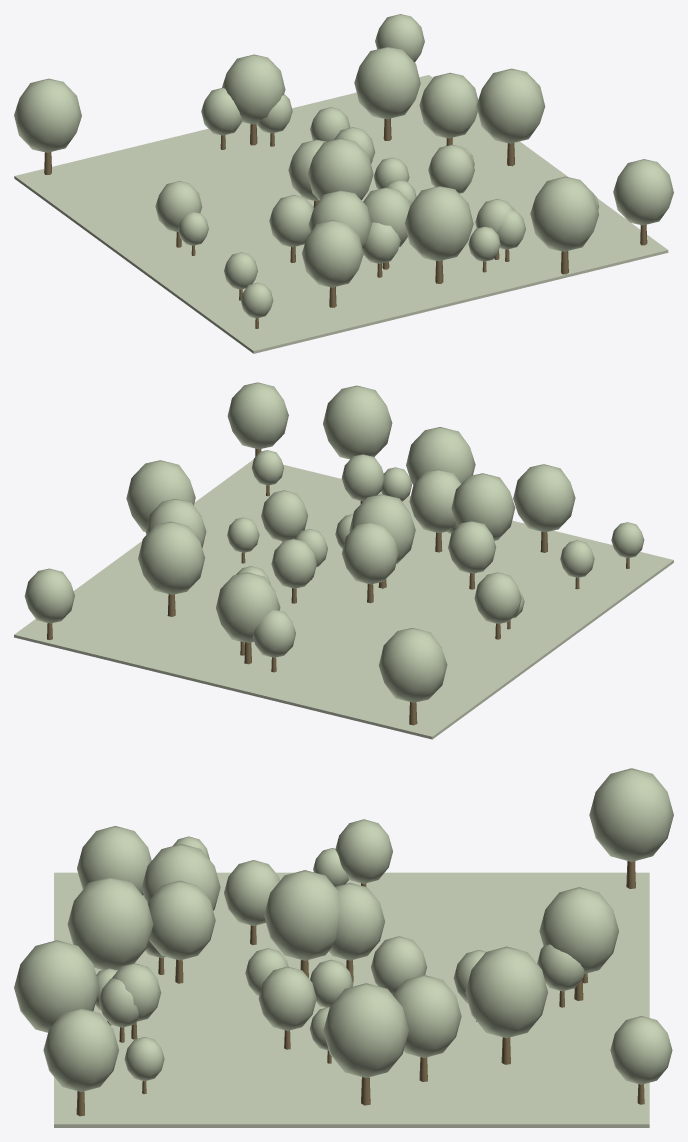
3 views of the same model, one above another, from view 1: azimuth 30°, elevation 25°; view 2: azimuth 150°, elevation 25°; view 3: azimuth 270°, elevation 25° (orthographic). The views are drawn at different scales.
Visible parts, largest first — view 1: terrain, lod-near-15, lod-near-13, lod-near-5, lod-near-19, lod-near-26, lod-near-3, lod-near-21, lod-near-11, lod-near-27, lod-near-12, lod-near-8 (+18 smaller); view 2: terrain, lod-near-13, lod-near-19, lod-near-26, lod-near-3, lod-near-21, lod-near-27, lod-near-8, lod-near-5, lod-near-15, lod-near-7, lod-near-0 (+15 smaller); view 3: terrain, lod-near-5, lod-near-19, lod-near-15, lod-near-26, lod-near-13, lod-near-11, lod-near-21, lod-near-27, lod-near-0, lod-near-12, lod-near-3 (+16 smaller).
Boxes of the visible parts, x1,y1,x2,y2 form: terrain: (14,75,668,353); lod-near-15: (404,186,473,261); lod-near-13: (530,176,598,251); lod-near-5: (476,68,545,143); lod-near-19: (14,78,81,152); lod-near-26: (354,46,420,119); lod-near-3: (302,220,363,287); lod-near-21: (613,159,673,225); lod-near-11: (308,138,373,200); lod-near-27: (222,54,285,124); lod-near-12: (419,72,478,138); lod-near-8: (308,190,371,247); terrain: (14,459,673,739); lod-near-13: (323,385,392,459); lod-near-19: (378,628,447,702); lod-near-26: (138,521,204,594); lod-near-3: (513,464,575,532); lod-near-21: (227,382,288,449); lod-near-27: (216,572,280,642); lod-near-8: (451,473,515,540); lod-near-5: (126,460,195,531); lod-near-15: (406,427,475,484); lod-near-7: (342,523,398,584); lod-near-0: (409,469,460,533); terrain: (54,872,649,1127); lod-near-5: (323,983,408,1077); lod-near-19: (589,768,673,861); lod-near-15: (67,877,153,970); lod-near-26: (465,946,547,1038); lod-near-13: (14,940,99,1032); lod-near-11: (264,870,339,960); lod-near-21: (43,1008,118,1091); lod-near-27: (539,887,618,973); lod-near-0: (148,880,215,960); lod-near-12: (393,975,461,1057); lod-near-3: (77,826,151,895).
Bounding box in the file's own units: 33.22 × 7.28 × 35.45.
